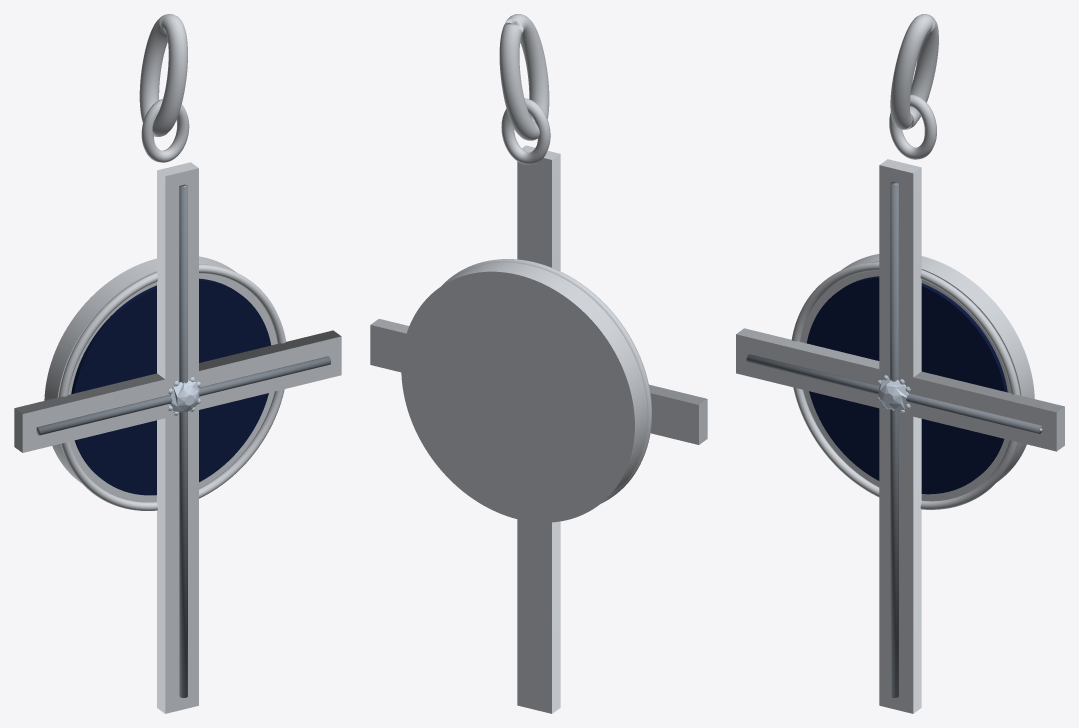
Rendered from emoria-faith.glb.
The picture shows the model from 3 angles, left to right: view 1: azimuth 30°, elevation 25°; view 2: azimuth 150°, elevation 25°; view 3: azimuth 330°, elevation 25°; orthographic projection. The views are drawn at different scales.
Visible parts, largest first — view 1: Polished silver, Midnight blue enamel, Engraved silver, Brilliant crystal; view 2: Polished silver; view 3: Polished silver, Midnight blue enamel, Engraved silver, Brilliant crystal.
Boxes of the visible parts, left/top/right/bottom form: Polished silver: left=14, top=14, right=341, bottom=713; Midnight blue enamel: left=71, top=278, right=271, bottom=495; Engraved silver: left=36, top=184, right=330, bottom=697; Brilliant crystal: left=167, top=377, right=200, bottom=415; Polished silver: left=370, top=14, right=707, bottom=713; Polished silver: left=736, top=14, right=1064, bottom=713; Midnight blue enamel: left=806, top=276, right=1007, bottom=494; Engraved silver: left=746, top=181, right=1042, bottom=697; Brilliant crystal: left=877, top=375, right=910, bottom=413.
Bounding box in the file's own units: 0.018 × 0.0366 × 0.00419.
